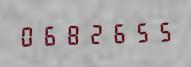eight: (61, 21, 82, 47)
five: (127, 18, 148, 45), (149, 18, 170, 44)
six: (39, 21, 60, 48), (105, 19, 126, 45)
two: (83, 20, 104, 46)
zero: (17, 22, 38, 48)
